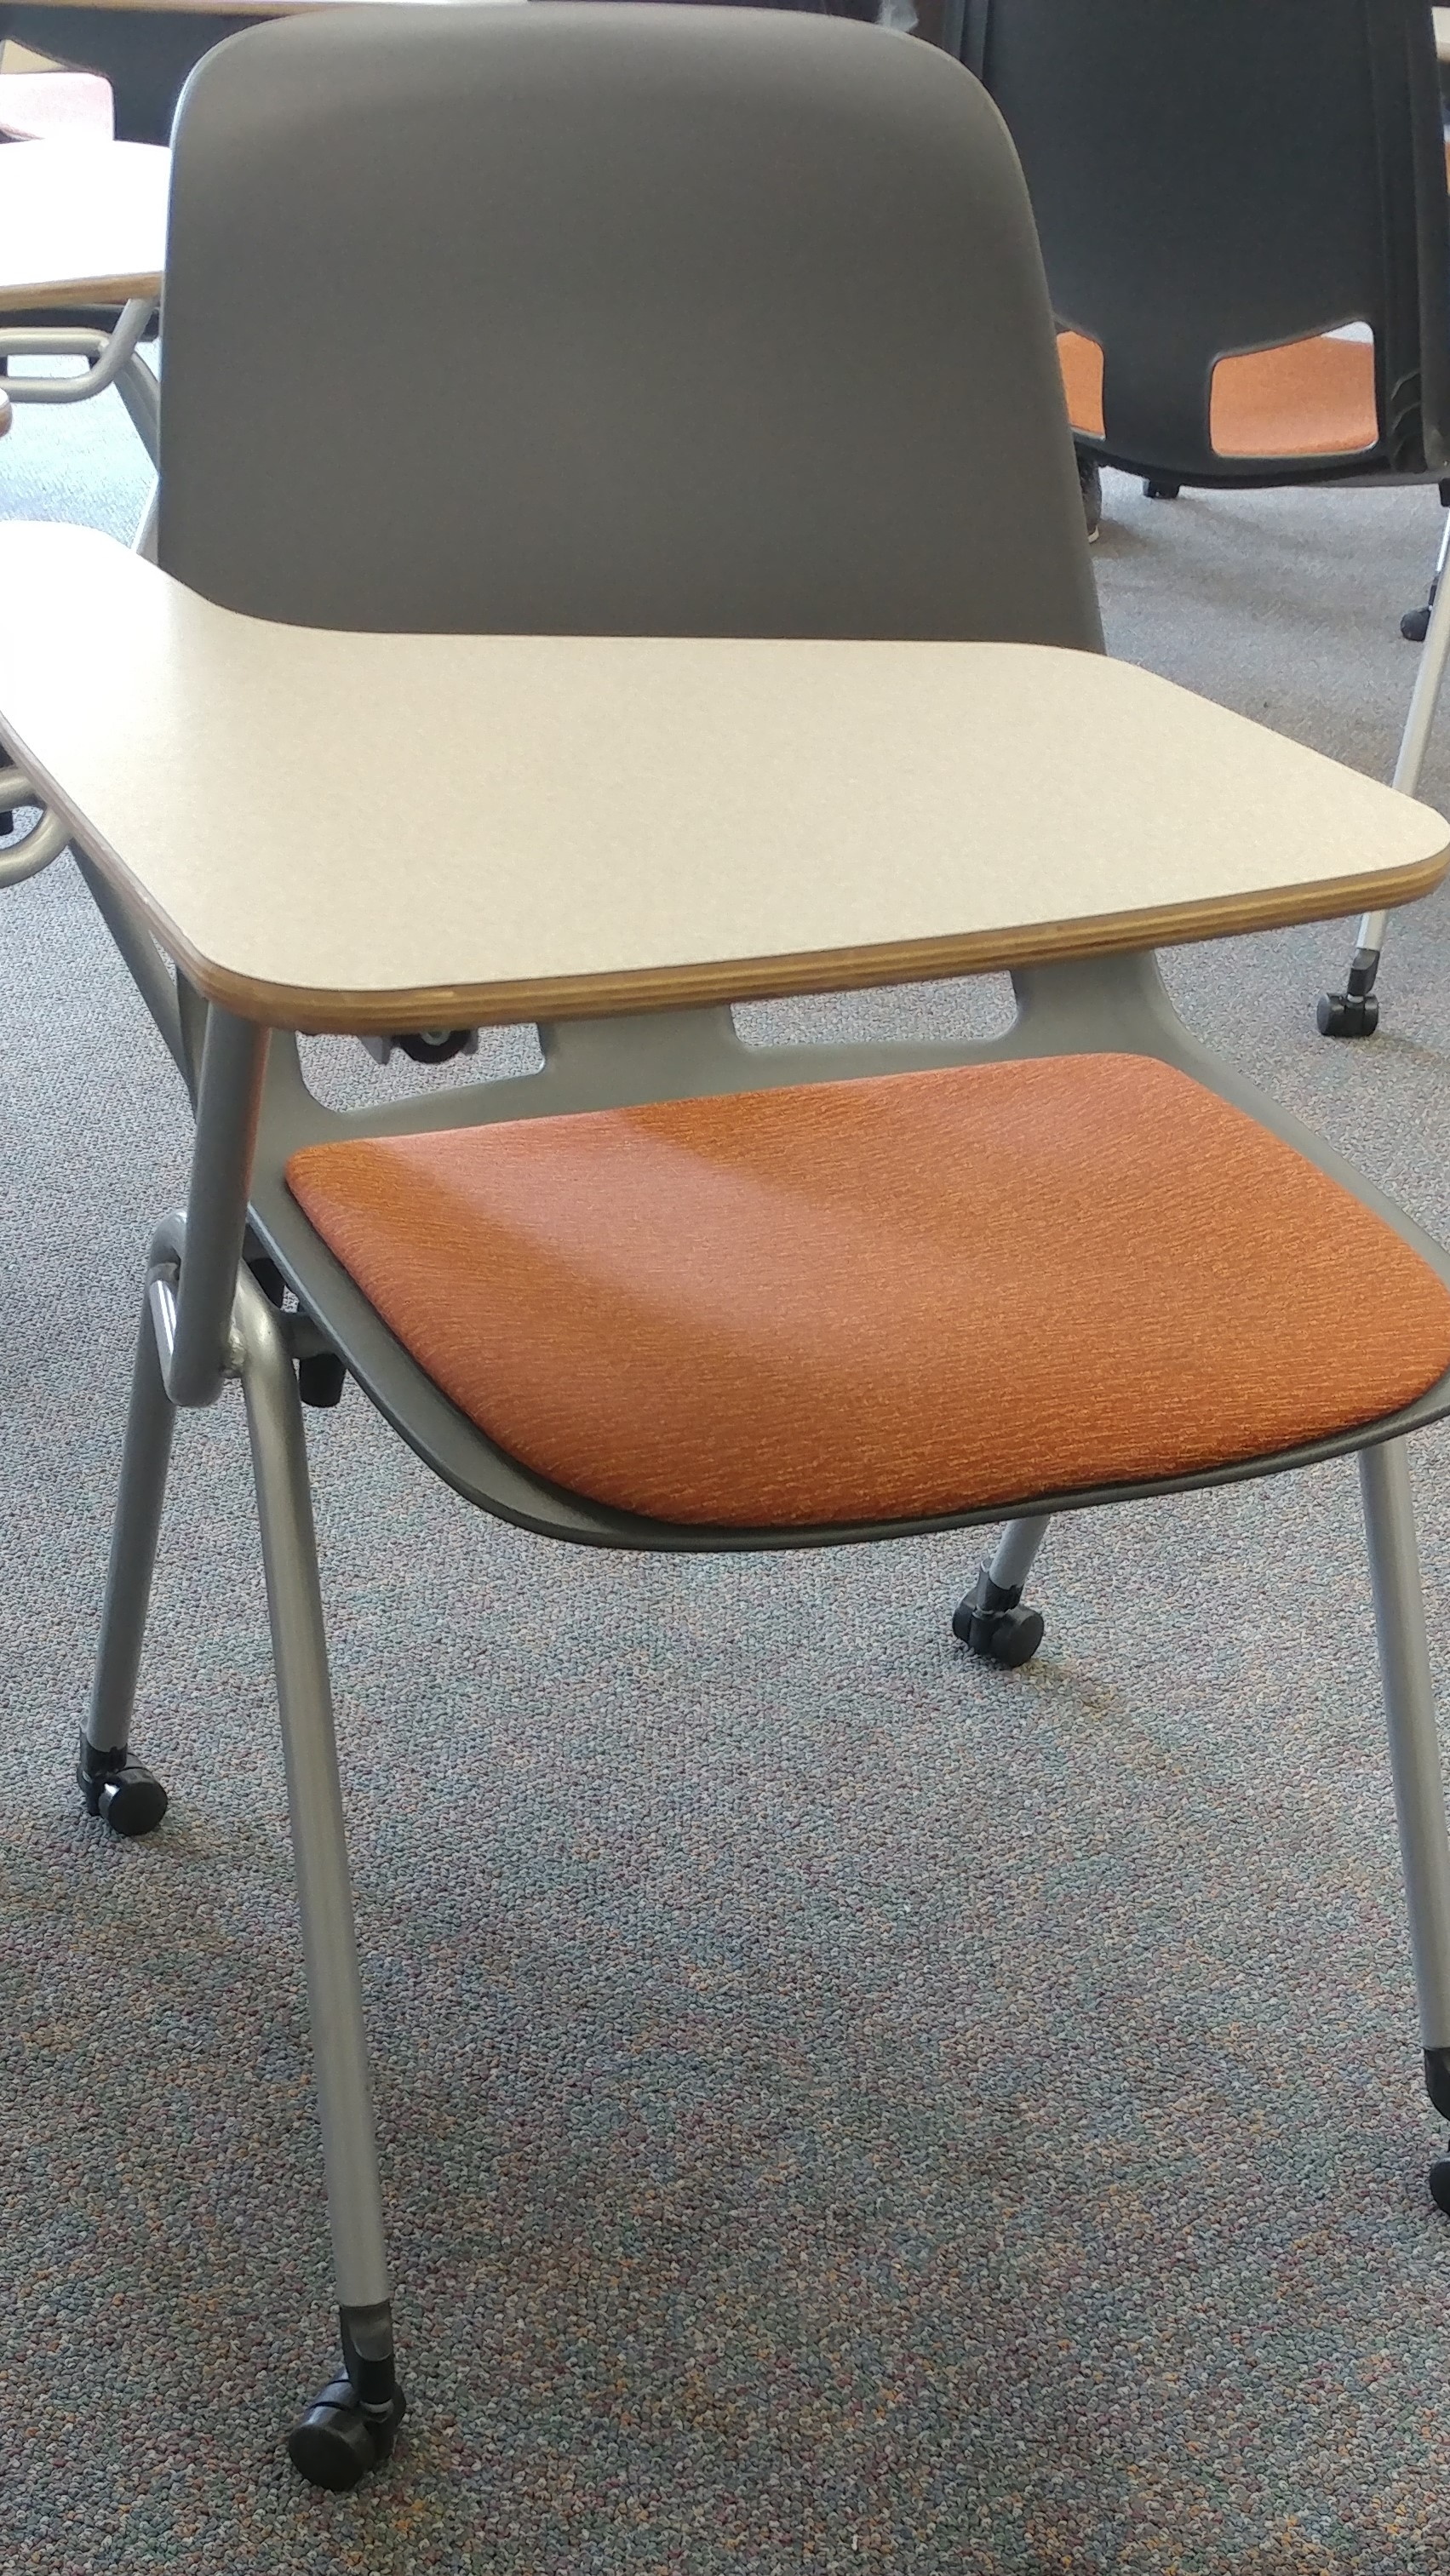desk: (0, 0, 1450, 2509)
